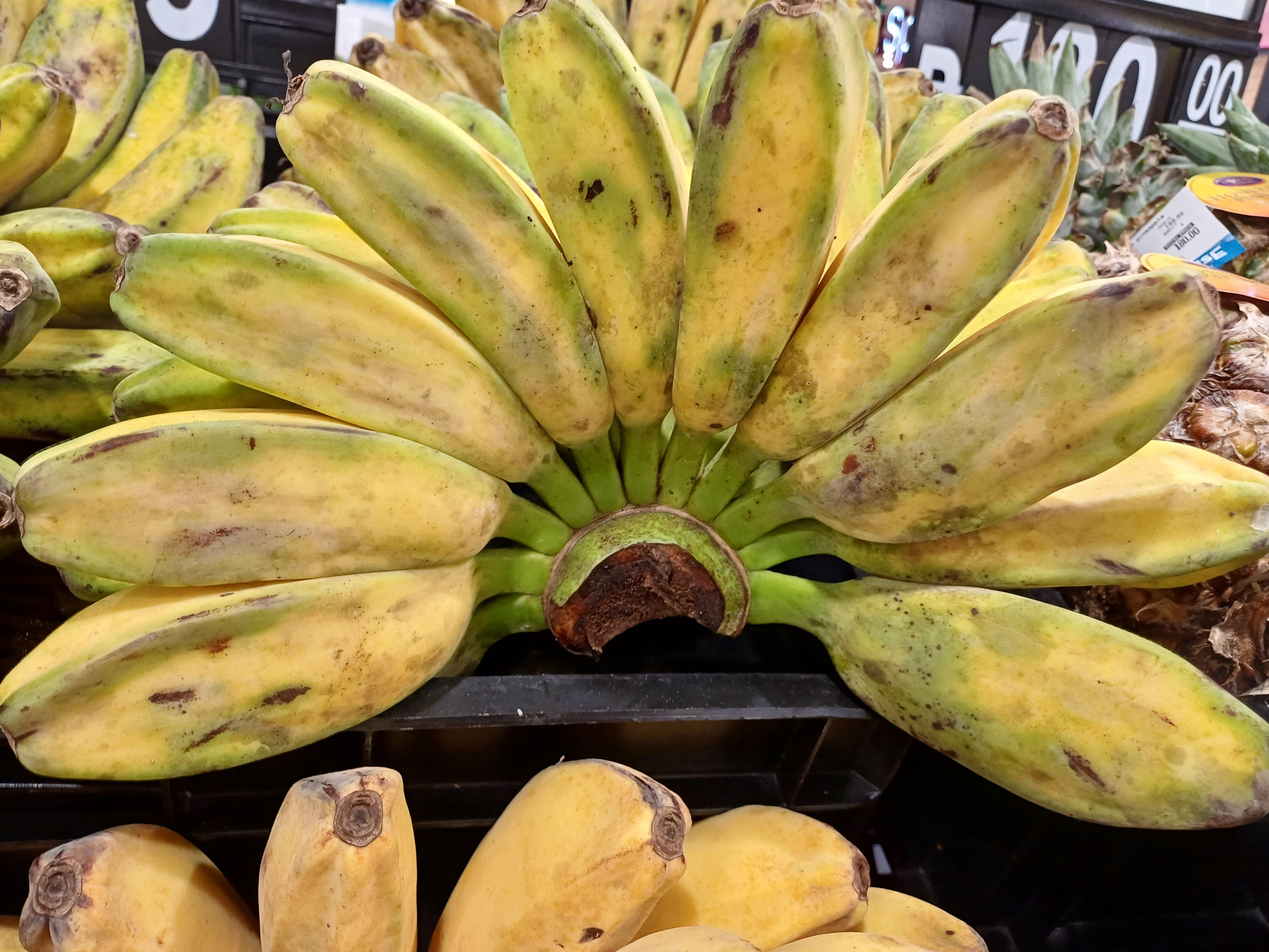ripe: (0, 760, 995, 952)
underripe: (0, 0, 1269, 830), (0, 0, 268, 463)
